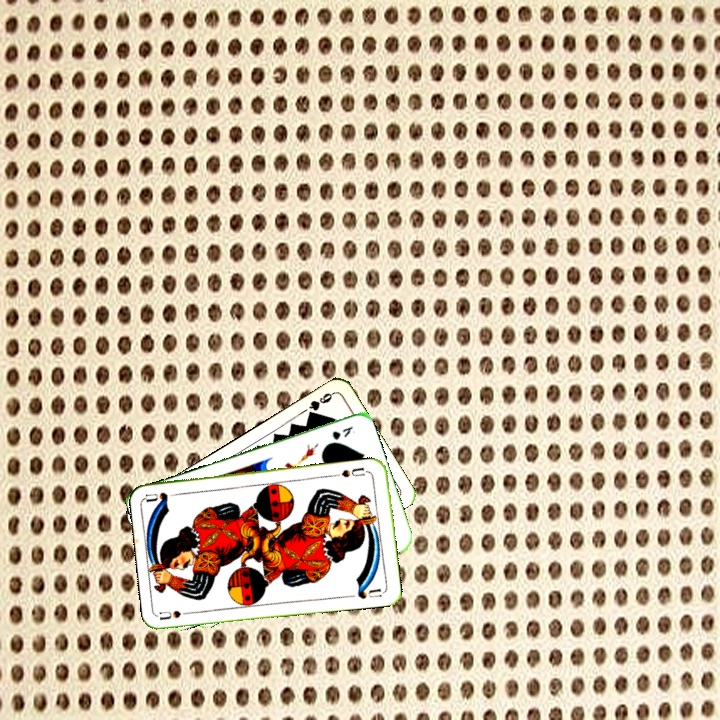G9: (304, 388, 337, 420)
GK: (328, 422, 355, 443)
SU: (157, 607, 197, 622), (337, 464, 372, 480)
